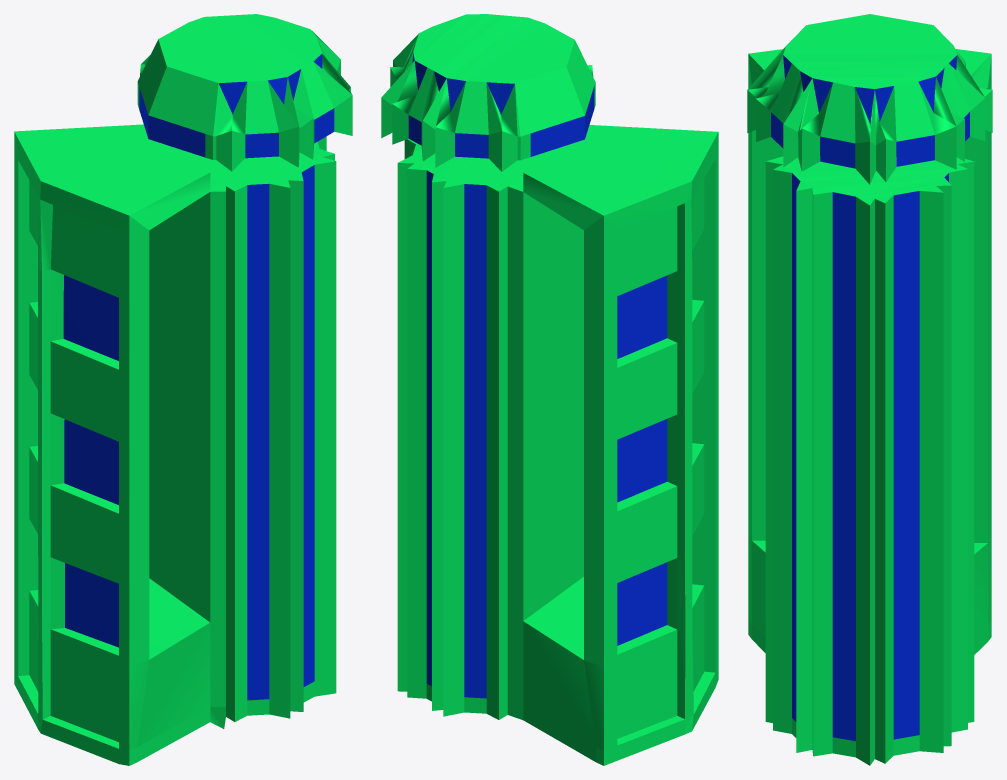
3 views of the same model, side by side, from view 1: azimuth 30°, elevation 25°; view 2: azimuth 150°, elevation 25°; view 3: azimuth 270°, elevation 25° (orthographic). The views are drawn at different scales.
Visible parts, largest first — view 1: Cylinder001.001; view 2: Cylinder001.001; view 3: Cylinder001.001.
Part boxes in pixels (x1,y1,x2,y2): Cylinder001.001: (14, 14, 352, 765); Cylinder001.001: (381, 14, 718, 765); Cylinder001.001: (747, 14, 992, 765).
Bounding box in the file's own units: 106 × 217 × 70.74.
